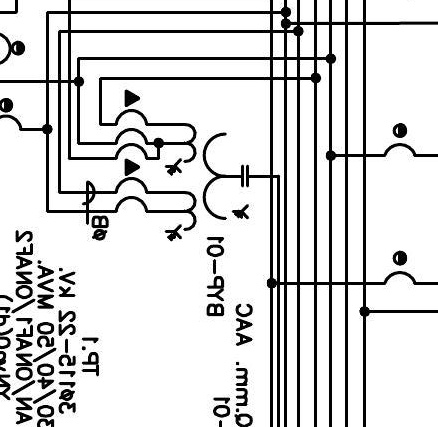115_cvt_3p: (164, 122, 249, 242)
